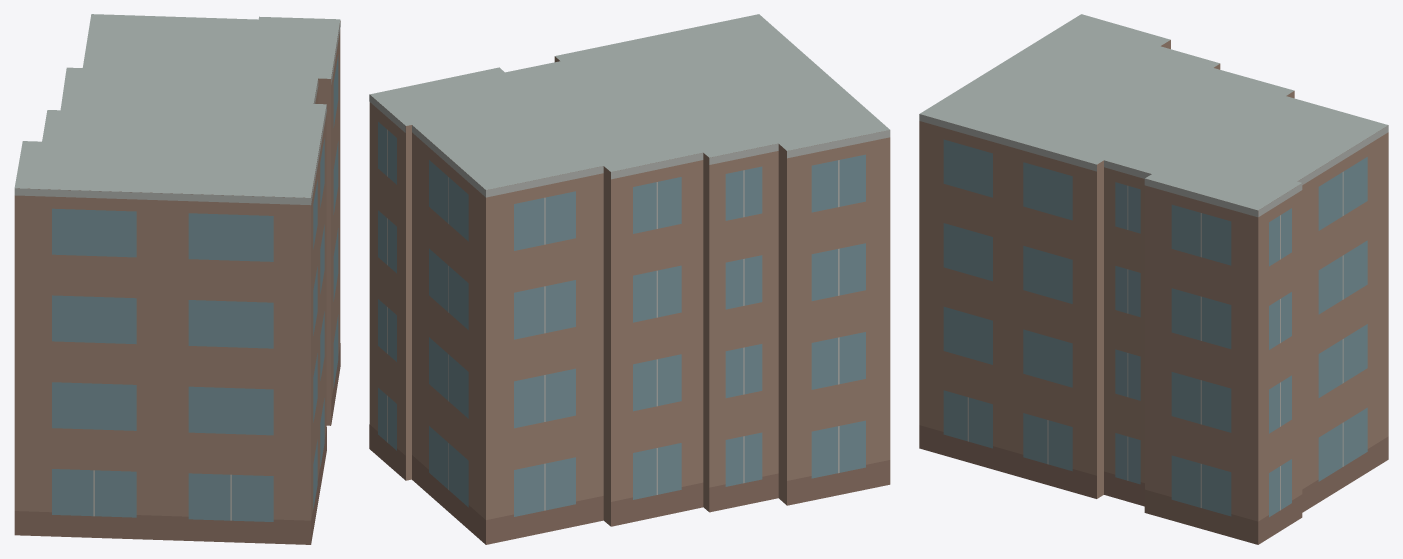
File: survey-upis-32696230.glb
The picture shows the model from 3 angles, left to right: view 1: azimuth 30°, elevation 25°; view 2: azimuth 150°, elevation 25°; view 3: azimuth 270°, elevation 25°; orthographic projection. The views are drawn at different scales.
Visible parts, largest first — view 1: survey-upis-32696230.tmp; view 2: survey-upis-32696230.tmp; view 3: survey-upis-32696230.tmp.
Boxes of the visible parts, x1,y1,x2,y2 form: survey-upis-32696230.tmp: (14, 14, 340, 544); survey-upis-32696230.tmp: (369, 14, 890, 544); survey-upis-32696230.tmp: (919, 14, 1388, 544).
Bounding box in the file's own units: 14.81 × 11.75 × 14.95.
